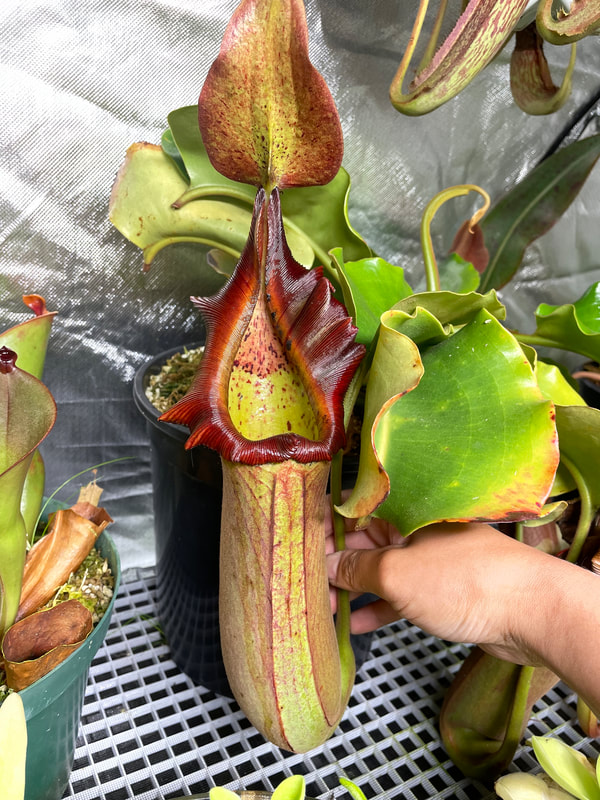truncata: (166, 8, 404, 765)
